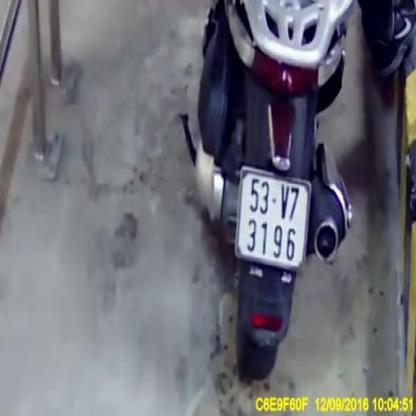Xemay: (235, 166, 312, 272)
